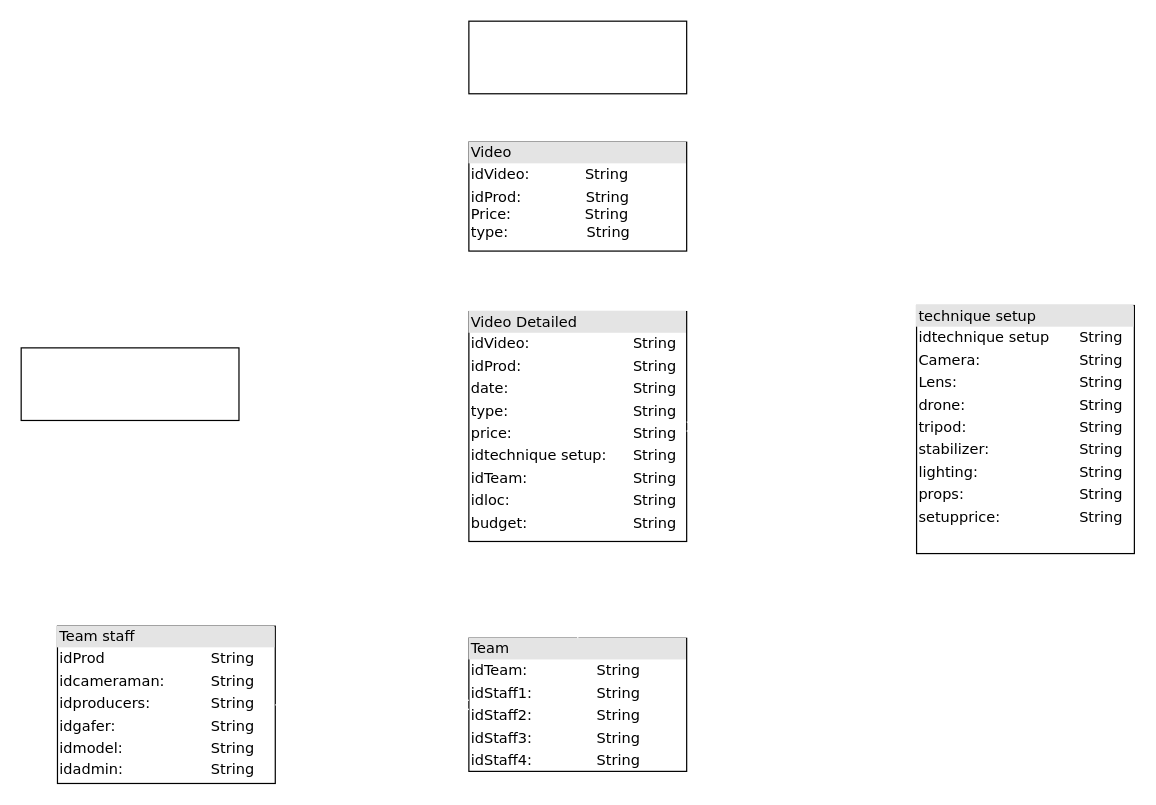
This 1156x805 diagram has some shape labels left out. Each missing label, with the centre of its shape:
"Location idloc: String Price: String" goes at [129,383].
"Production idProd: String type: String" goes at [577,57].
